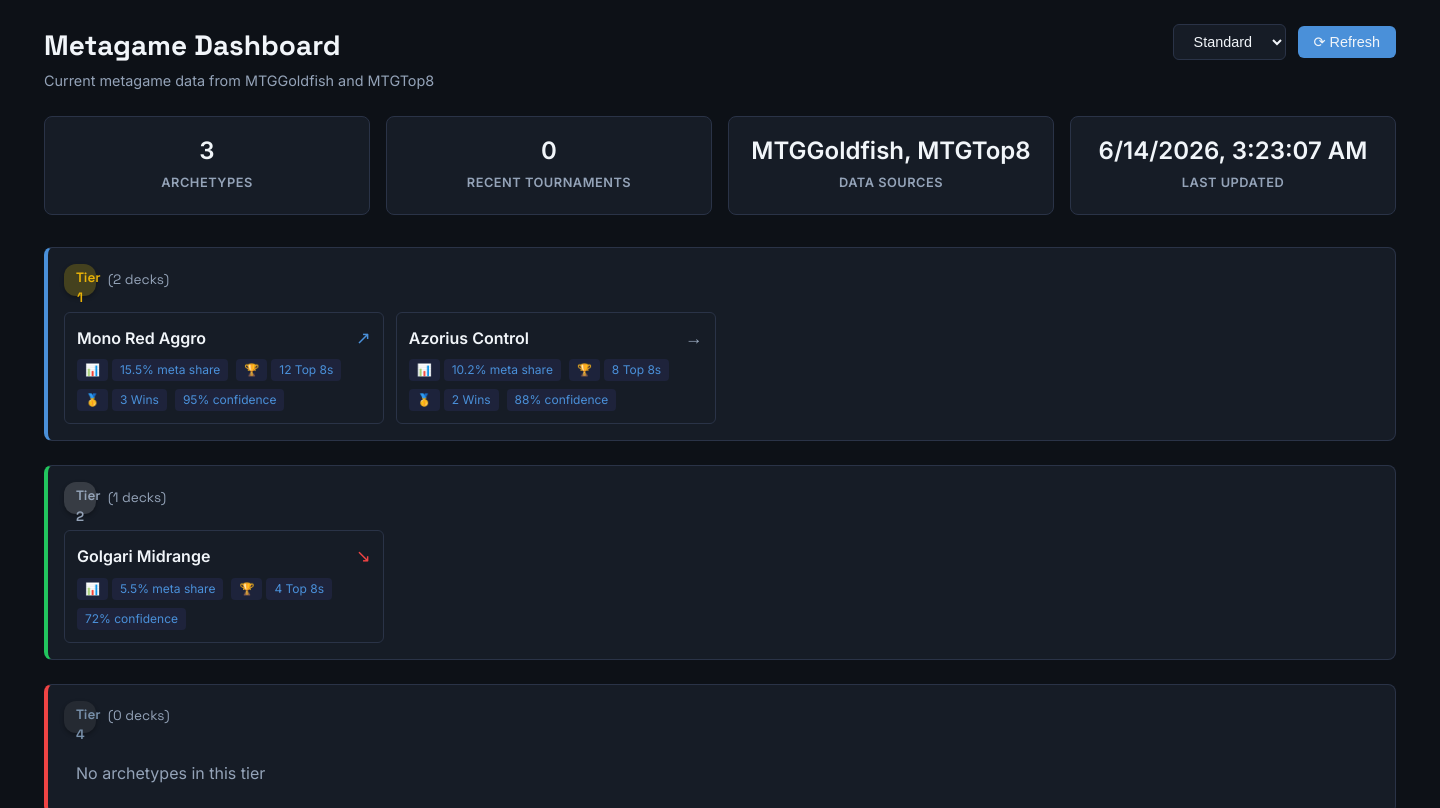
Test: Meta › refresh functionality › handles null return from refreshMetaData in handleRefresh without TypeError
Expected: the text "Mono Red Aggro" is shown, [77,328,206,348]
Click the button "⟳ Refresh" at (1347, 42), box [1298,26,1396,58]
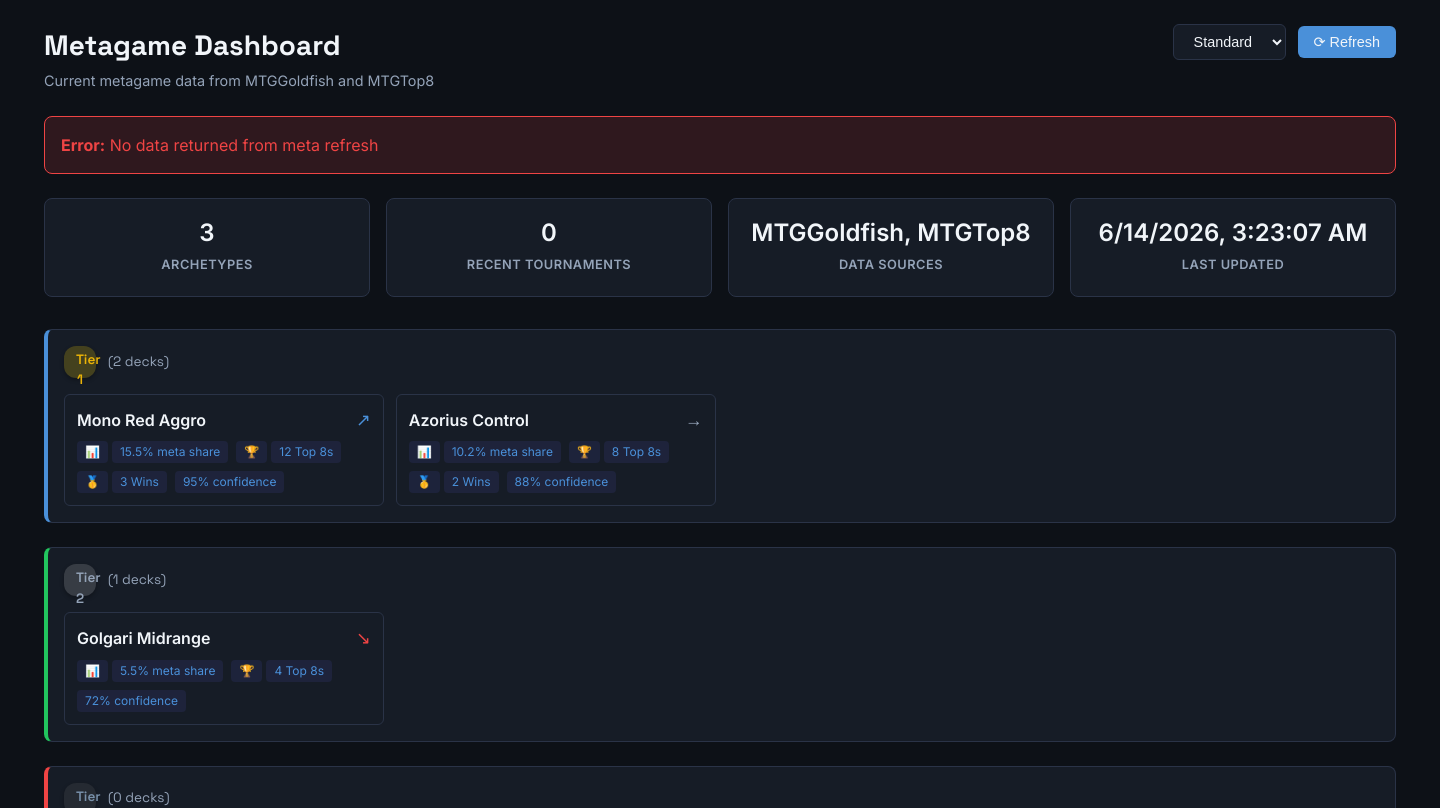
Result: the text "Error: No data returned from meta refresh" is shown at [44,116,1396,174]
